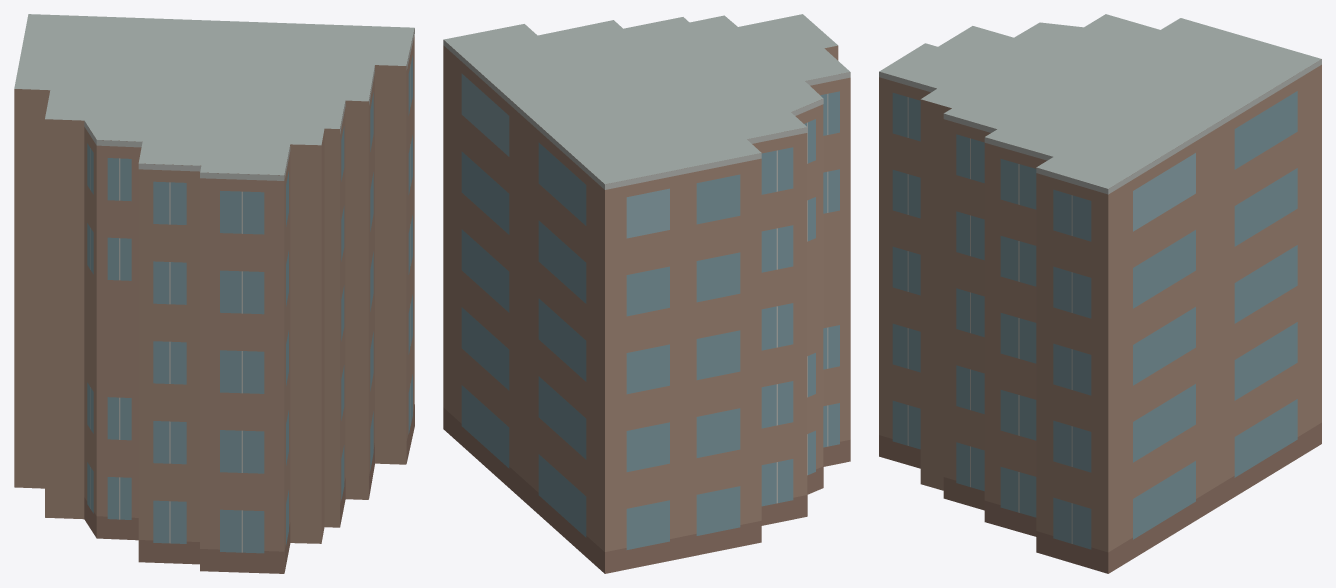
File: survey-upis-32960639.glb
The picture shows the model from 3 angles, left to right: view 1: azimuth 30°, elevation 25°; view 2: azimuth 150°, elevation 25°; view 3: azimuth 270°, elevation 25°; orthographic projection. The views are drawn at different scales.
Parts seen in each view (by area): view 1: survey-upis-32960639.tmp; view 2: survey-upis-32960639.tmp; view 3: survey-upis-32960639.tmp.
Boxes of the visible parts, x1,y1,x2,y2 form: survey-upis-32960639.tmp: (14,14,414,573); survey-upis-32960639.tmp: (443,14,850,573); survey-upis-32960639.tmp: (879,14,1321,573).
Size of the model in its own units: 16.38 by 16.8 by 17.52.
